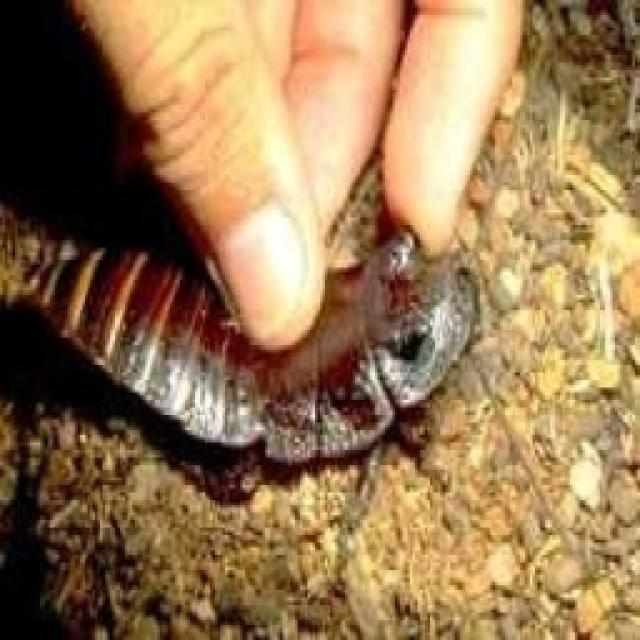cockroach: (0, 184, 561, 496)
